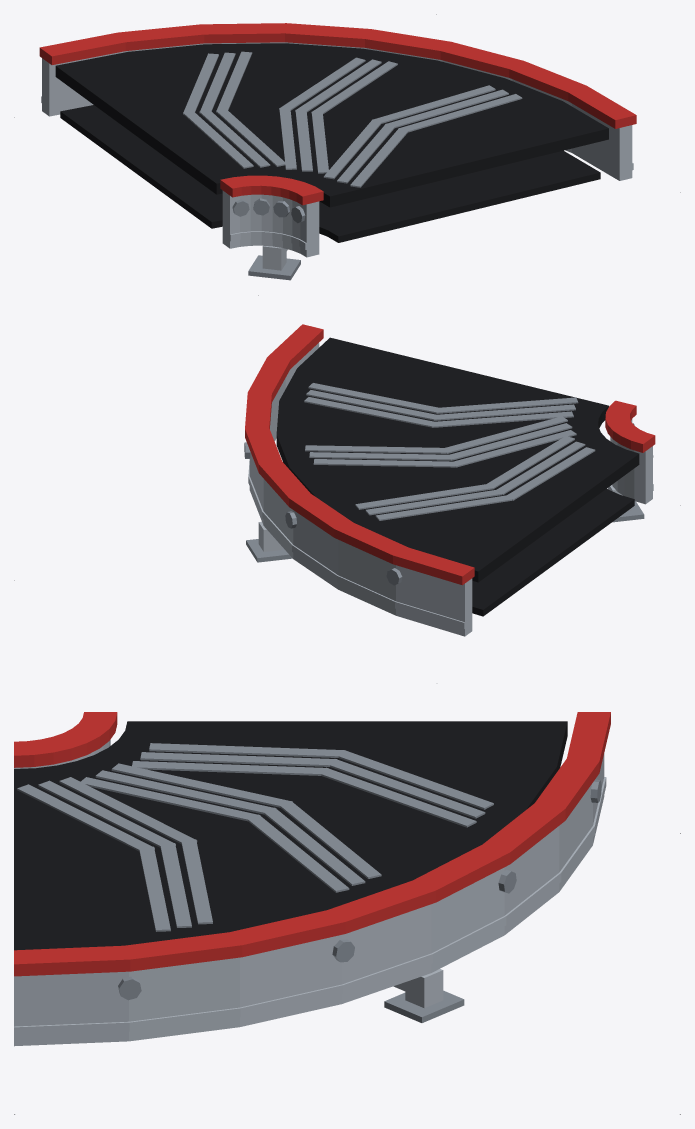
Rendered from convoyeur_virage_inverse_t3.glb.
3 renders of one model, top to bottom at view 1: azimuth 30°, elevation 25°; view 2: azimuth 150°, elevation 25°; view 3: azimuth 270°, elevation 25°, orthographic. The views are drawn at different scales.
Parts seen in each view (by area): view 1: bande_porteuse.024, bande_retour.024, bande_acier.042, rive_1.024, longeron_1.024, longeron_-1.024, rive_-1.024, pieces_acier.048, nervure_-1.012, pieces_gris_clair.016; view 2: bande_porteuse.024, bande_acier.042, longeron_1.024, rive_1.024, bande_retour.024, nervure_1.012, rive_-1.024, longeron_-1.024, pieces_acier.048; view 3: bande_porteuse.024, longeron_1.024, bande_acier.042, rive_1.024, nervure_1.012, rive_-1.024, pieces_acier.048, pieces_gris_clair.016.
Boxes of the visible parts, bbox=[...] form: bande_porteuse.024: bbox=[55, 43, 608, 207]; bande_retour.024: bbox=[60, 105, 600, 242]; bande_acier.042: bbox=[183, 51, 522, 187]; rive_1.024: bbox=[39, 23, 636, 128]; longeron_1.024: bbox=[42, 42, 632, 180]; longeron_-1.024: bbox=[222, 190, 319, 257]; rive_-1.024: bbox=[220, 175, 323, 205]; pieces_acier.048: bbox=[232, 198, 305, 280]; nervure_-1.012: bbox=[230, 231, 307, 249]; pieces_gris_clair.016: bbox=[262, 245, 287, 270]; bande_porteuse.024: bbox=[276, 337, 639, 582]; bande_acier.042: bbox=[304, 383, 595, 520]; longeron_1.024: bbox=[249, 342, 472, 636]; rive_1.024: bbox=[245, 324, 474, 585]; bande_retour.024: bbox=[472, 488, 634, 616]; nervure_1.012: bbox=[248, 461, 465, 629]; rive_-1.024: bbox=[605, 400, 655, 452]; longeron_-1.024: bbox=[610, 419, 652, 504]; pieces_acier.048: bbox=[244, 423, 653, 585]; bande_porteuse.024: bbox=[14, 721, 567, 950]; longeron_1.024: bbox=[14, 753, 604, 1046]; bande_acier.042: bbox=[17, 743, 493, 931]; rive_1.024: bbox=[14, 712, 610, 976]; nervure_1.012: bbox=[14, 777, 606, 1036]; rive_-1.024: bbox=[14, 712, 117, 767]; pieces_acier.048: bbox=[118, 779, 601, 1022]; pieces_gris_clair.016: bbox=[393, 969, 443, 1008].
Bounding box in the file's own units: 1 × 0.2 × 1.
